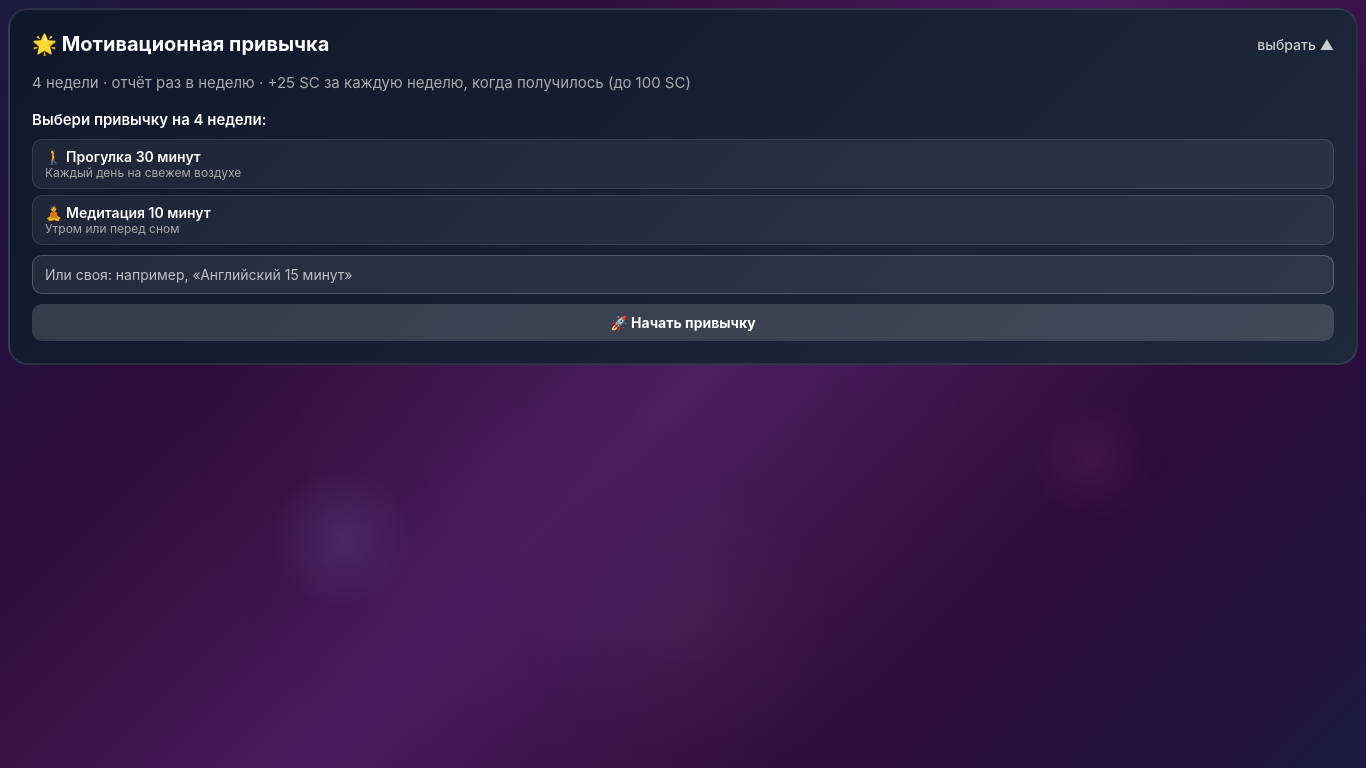
выбор привычки: готовая из списка уходит в API и привычка начинается
Expected: the button "🚀 Начать привычку" is disabled, [32,304,1334,341]
Step 1. Click the button "🚶 Прогулка 30 минут Каждый день на свежем воздухе" → x=133, y=156, box [32,139,1334,189]
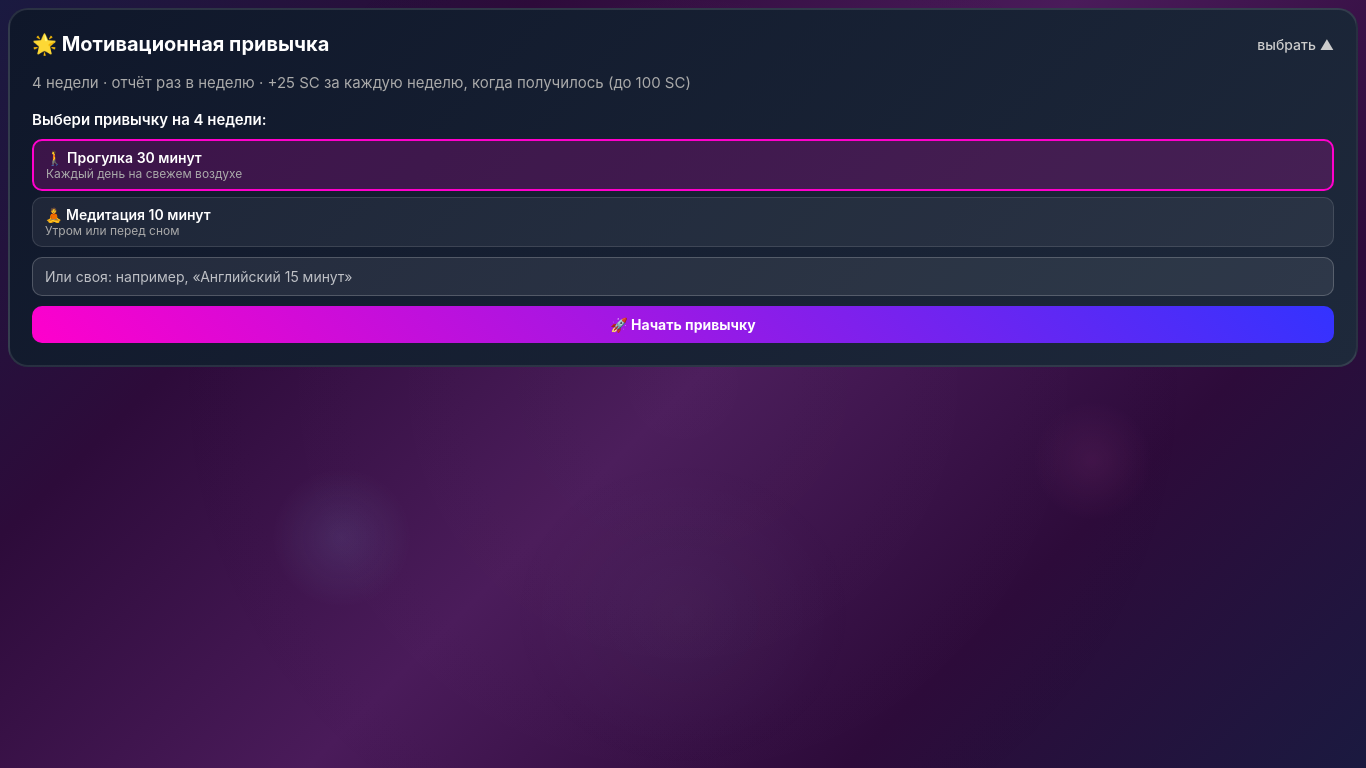
Expected: the button "🚀 Начать привычку" is enabled
Step 2. Click the button "🚀 Начать привычку" → x=683, y=324, box [32,306,1334,343]
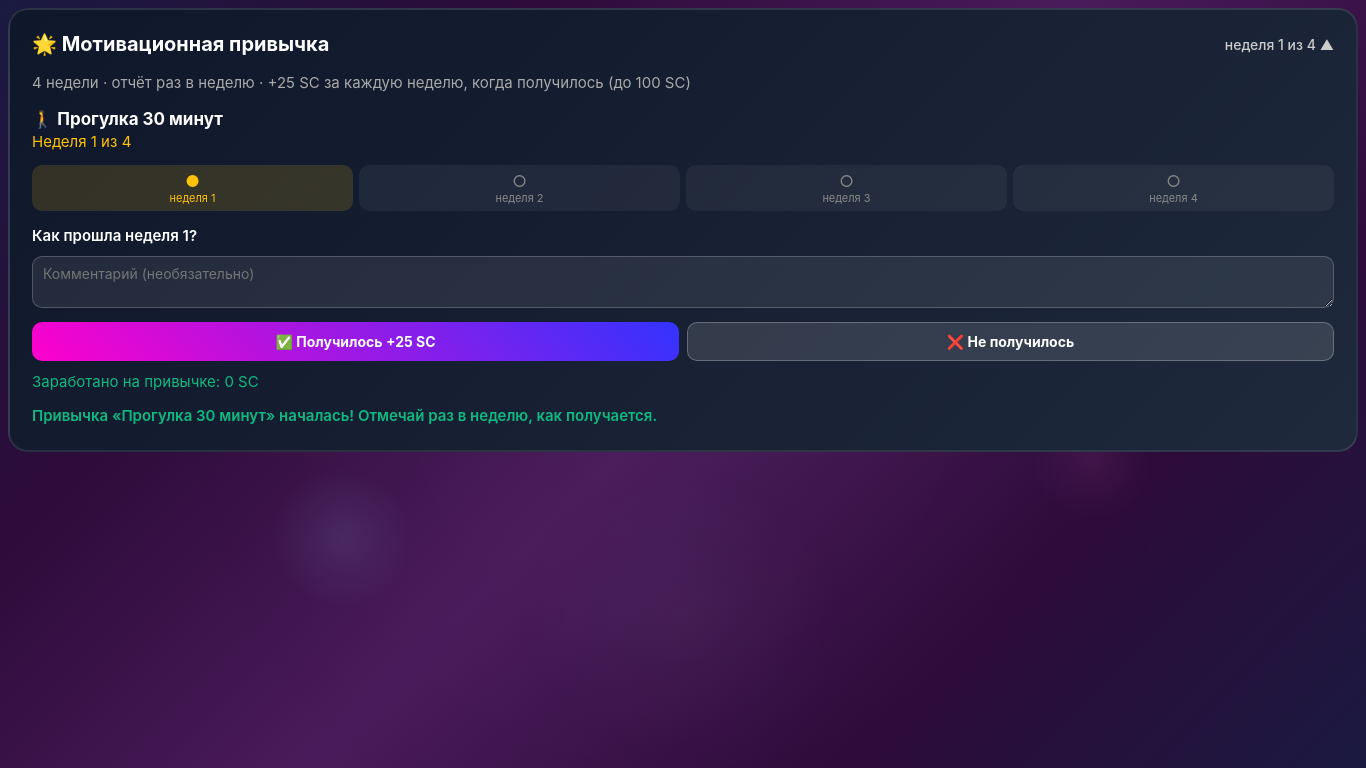
Expected: the text "Привычка «Прогулка 30 минут» началась" is shown, [32,406,657,425]
Expected: the text "Неделя 1 из 4" is shown, [32,132,131,150]
